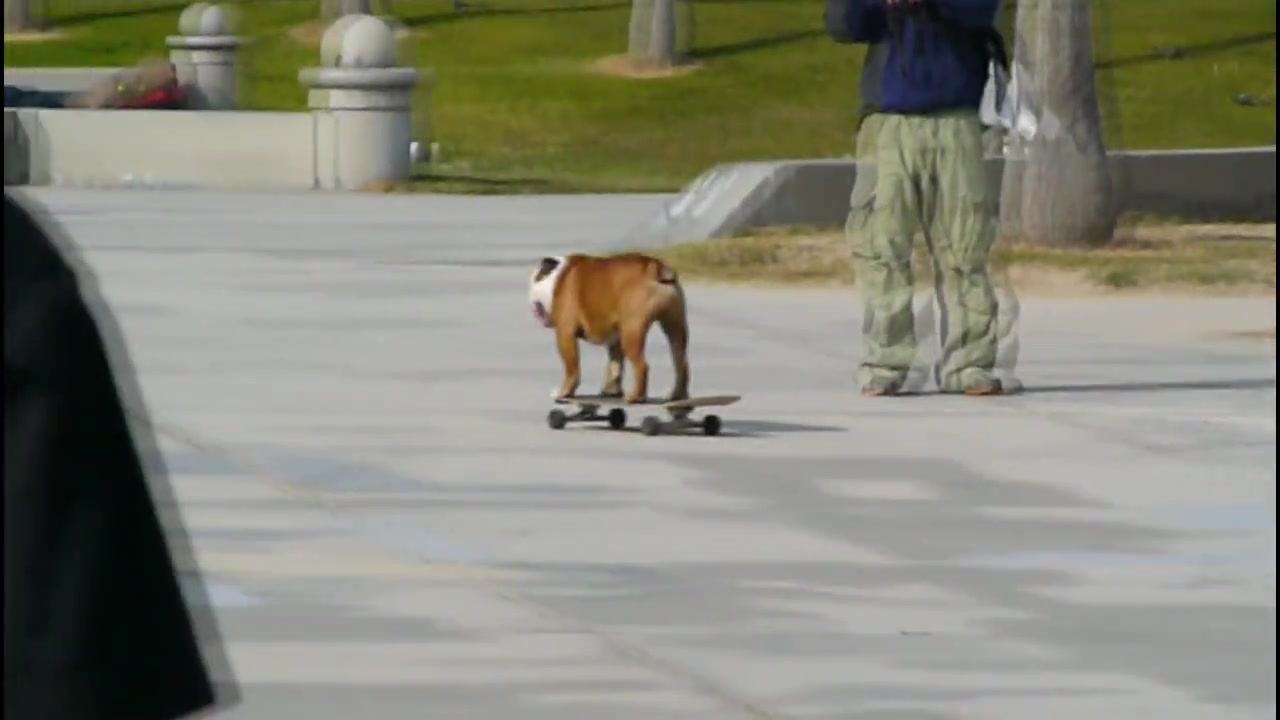dog: (525, 250, 696, 405)
